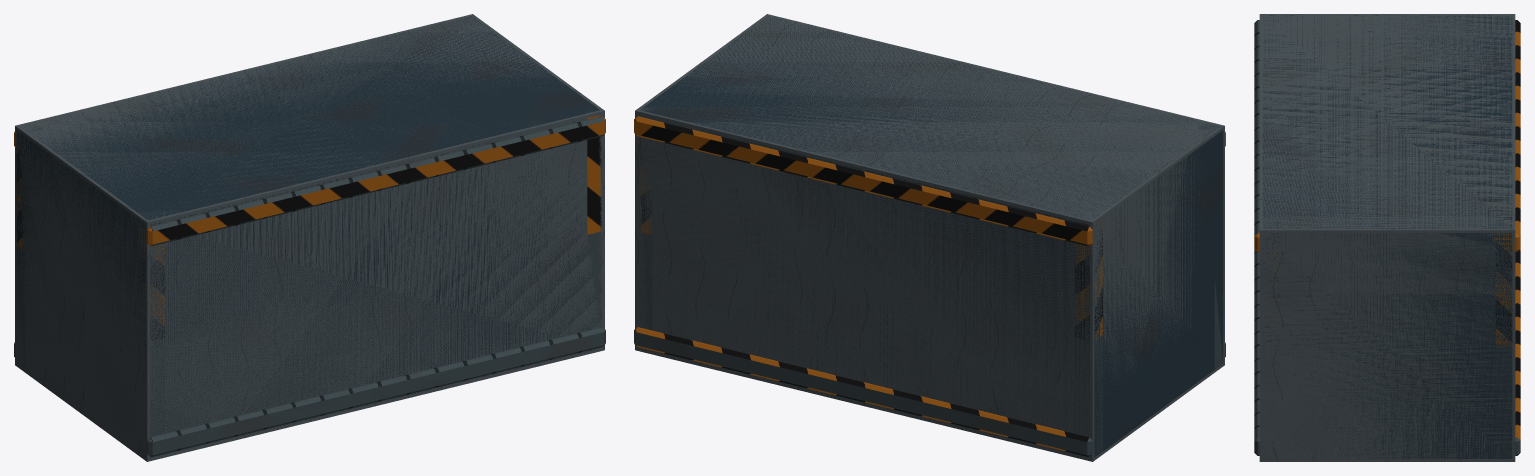
Rendered from Cover_CrateGroup.fbx.
The picture shows the model from 3 angles, left to right: view 1: azimuth 30°, elevation 25°; view 2: azimuth 150°, elevation 25°; view 3: azimuth 270°, elevation 25°; orthographic projection. The views are drawn at different scales.
Visible parts, largest first — view 1: COL_Foundry_Cover_CrateGroup_00_Both, ENV_Foundry_Cover_CrateGroup_LOD0; view 2: COL_Foundry_Cover_CrateGroup_00_Both, ENV_Foundry_Cover_CrateGroup_LOD0; view 3: COL_Foundry_Cover_CrateGroup_00_Both, ENV_Foundry_Cover_CrateGroup_LOD0.
Boxes of the visible parts, box(x1,y1,x2,y2) form: COL_Foundry_Cover_CrateGroup_00_Both: box(15, 14, 604, 461); ENV_Foundry_Cover_CrateGroup_LOD0: box(14, 16, 605, 457); COL_Foundry_Cover_CrateGroup_00_Both: box(635, 14, 1224, 461); ENV_Foundry_Cover_CrateGroup_LOD0: box(634, 16, 1225, 457); COL_Foundry_Cover_CrateGroup_00_Both: box(1259, 14, 1515, 461); ENV_Foundry_Cover_CrateGroup_LOD0: box(1254, 15, 1520, 458).
Size of what is drawn, in the model's own units: 4 by 2 by 2.08.
